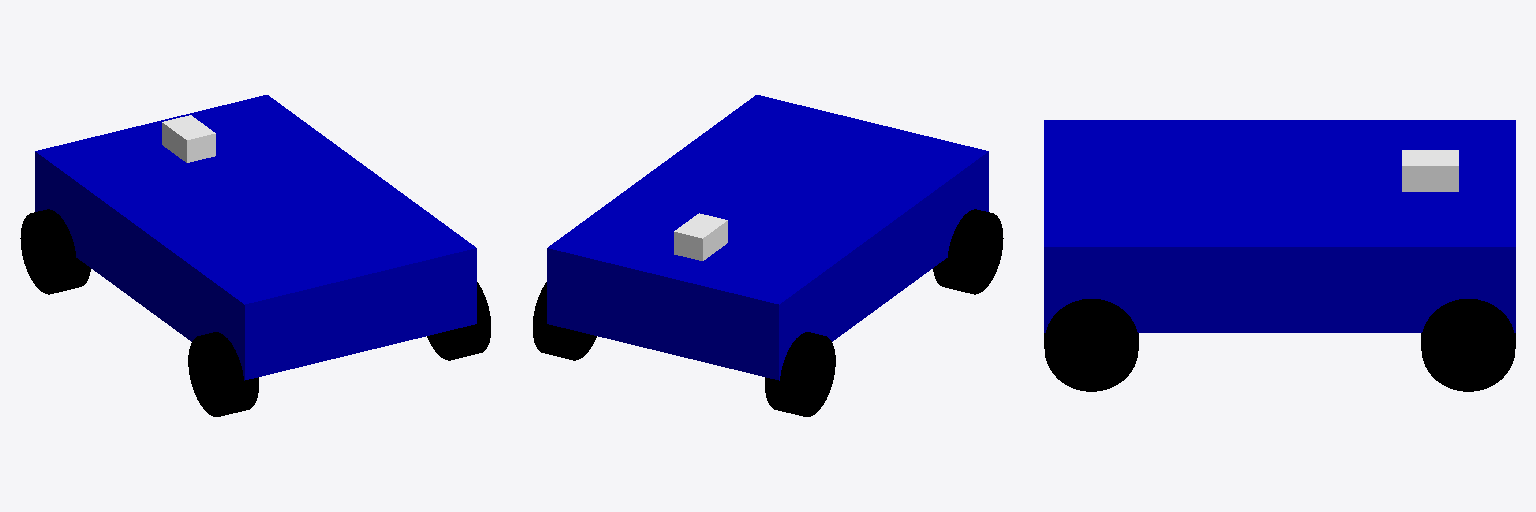
robot.urdf — smartcar:
<?xml version="1.0"?>  

<robot name="smartcar">  

  <link name="base_link">  
    <visual>  
      <geometry>  
        <box size="0.25 .16 .05"/>  
      </geometry>  
      <!-- xyz表示位置,rpy表示旋转方向 -->
      <origin rpy="0 0 1.57075" xyz="0 0 0"/>  
      <material name="blue">  
        <!-- rgba表示RGB+透明度 -->
          <color rgba="0 0 .8 1"/>  
      </material>  
    </visual>  
  </link>

  <link name="right_front_wheel">
    <visual>
        <geometry>
          <cylinder length=".02" radius="0.025"/>
        </geometry>
        <material name="black">
          <color rgba="0 0 0 1"/>
        </material>
    </visual>
  </link>

<!-- “关节”用来定义结构之间的关系,这里设置的为“棱形”,存在prismatic、fixed、continuous、revolute等连接方式 -->
  <joint name="right_front_wheel_joint" type="continuous"> 
    <!-- 
      <axis xyz="1 0 0" />
      用来设置这个关节的移动方向,默认为x轴,若为0 0 1则为沿z轴移动,也可以复合设置 
    --> 
    <axis xyz="0 0 1"/>  
    <parent link="base_link"/>  
    <child link="right_front_wheel"/>  
    <origin rpy="0 1.57075 0" xyz="0.08 0.1 -0.03"/> 
    <!-- 
      <limit effort="1000.0" lower="-0.38" upper="0" velocity="0.5"/>  
      “极限”用来约束:“力量”、“最大值”、“最小值”、“速度”的上限,默认为无穷大
    -->
    <limit effort="100" velocity="100"/>  
    <joint_properties damping="0.0" friction="0.0"/>  
  </joint>  

  <link name="right_back_wheel">
    <visual>
      <geometry>
        <cylinder length=".02" radius="0.025"/>
      </geometry>
      <material name="black">
        <color rgba="0 0 0 1"/>
      </material>
    </visual>
  </link>

  <joint name="right_back_wheel_joint" type="continuous">
    <axis xyz="0 0 1"/>
    <parent link="base_link"/>
    <child link="right_back_wheel"/>
    <origin rpy="0 1.57075 0" xyz="0.08 -0.1 -0.03"/>
    <limit effort="100" velocity="100"/>
    <joint_properties damping="0.0" friction="0.0"/>
  </joint>

  <link name="left_front_wheel">  
    <visual>  
      <geometry>  
        <cylinder length=".02" radius="0.025"/>  
      </geometry>  
      <material name="black">  
        <color rgba="0 0 0 1"/>  
      </material>  
    </visual>  
  </link>  

  <joint name="left_front_wheel_joint" type="continuous">  
    <axis xyz="0 0 1"/>  
    <parent link="base_link"/>  
    <child link="left_front_wheel"/>  
    <origin rpy="0 1.57075 0" xyz="-0.08 0.1 -0.03"/>  
    <limit effort="100" velocity="100"/>  
    <joint_properties damping="0.0" friction="0.0"/>  
  </joint>  

  <link name="left_back_wheel">  
    <visual>  
      <geometry>  
        <cylinder length=".02" radius="0.025"/>  
      </geometry>  
      <material name="black">  
        <color rgba="0 0 0 1"/>
      </material>
    </visual>
  </link>

  <joint name="left_back_wheel_joint" type="continuous">
    <axis xyz="0 0 1"/>
    <parent link="base_link"/>
    <child link="left_back_wheel"/>
    <origin rpy="0 1.57075 0" xyz="-0.08 -0.1 -0.03"/>
    <limit effort="100" velocity="100"/>
    <joint_properties damping="0.0" friction="0.0"/>
  </joint>

  <link name="head">
    <visual>
      <geometry>
        <box size=".02 .03 .03"/>
      </geometry>
      <material name="white">
          <color rgba="1 1 1 1"/>
      </material>
    </visual>
  </link>

  <joint name="tobox" type="fixed">
    <parent link="base_link"/>
    <child link="head"/>
    <origin xyz="0 0.08 0.025"/>
  </joint>

</robot>

--- Render facts (derived) ---
Views: 3 orthographic renders of the robot side by side, from view 1: azimuth 30°, elevation 25°; view 2: azimuth 150°, elevation 25°; view 3: azimuth 270°, elevation 25°.
Model smartcar with 6 links and 5 joints (4 continuous, 1 fixed), rooted at base_link, posed all joints at 0.
Visible links, largest first — view 1: base_link, left_back_wheel, left_front_wheel, right_back_wheel, head; view 2: base_link, left_front_wheel, left_back_wheel, right_front_wheel, head; view 3: base_link, right_back_wheel, right_front_wheel, head.
Boxes of the visible links, <box> form: base_link: <box>35,95,476,380</box>; left_back_wheel: <box>188,332,258,416</box>; left_front_wheel: <box>20,209,90,294</box>; right_back_wheel: <box>427,282,490,360</box>; head: <box>162,115,215,162</box>; base_link: <box>547,95,988,380</box>; left_front_wheel: <box>765,332,835,416</box>; left_back_wheel: <box>933,209,1003,294</box>; right_front_wheel: <box>533,282,596,360</box>; head: <box>674,213,727,260</box>; base_link: <box>1044,120,1515,332</box>; right_back_wheel: <box>1044,299,1138,391</box>; right_front_wheel: <box>1421,299,1515,391</box>; head: <box>1402,150,1458,191</box>.
Bounding box of the posed robot: 0.18 × 0.25 × 0.095 m (x, y, z).
Geometry: primitives only (box / cylinder / sphere), no mesh files.
